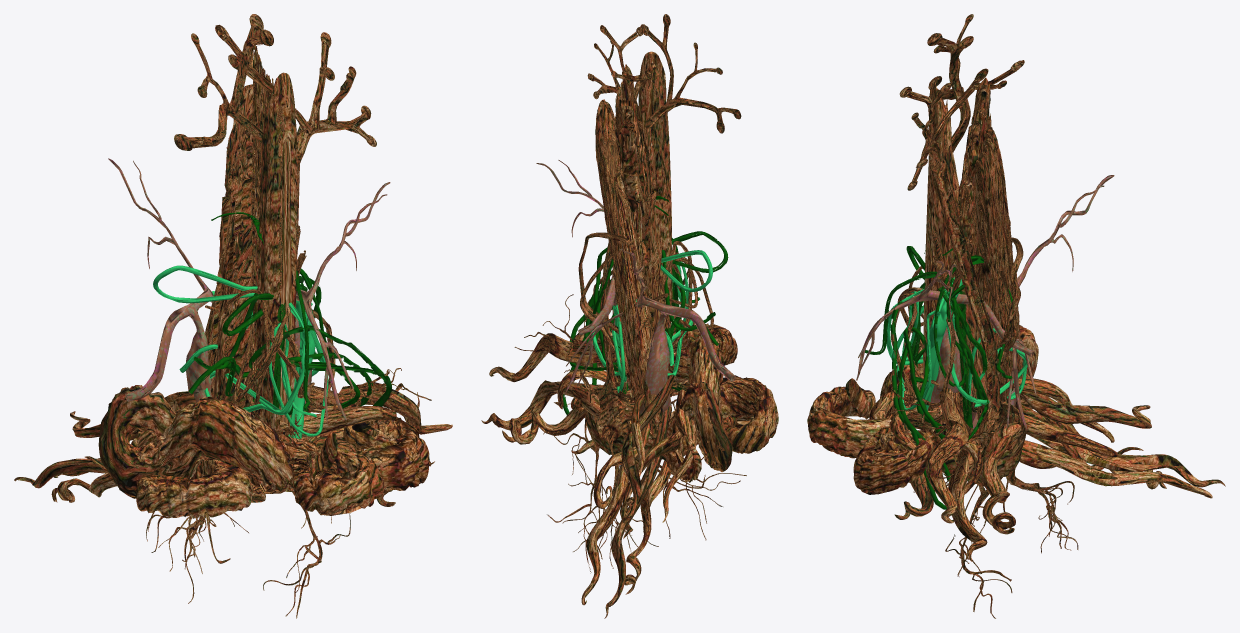
File: worldtreeone.glb
3 renders of one model, left to right at view 1: azimuth 30°, elevation 25°; view 2: azimuth 150°, elevation 25°; view 3: azimuth 270°, elevation 25°, orthographic. The views are drawn at different scales.
Visible parts, largest first — view 1: a_steak_raw_132.026; view 2: a_steak_raw_132.026; view 3: a_steak_raw_132.026.
Part boxes in pixels (x1=…): a_steak_raw_132.026: x1=14, y1=14, x2=452, y2=618; a_steak_raw_132.026: x1=481, y1=14, x2=778, y2=618; a_steak_raw_132.026: x1=807, y1=14, x2=1225, y2=618.
Size of the model in its own units: 1.35 by 2.55 by 1.72.
6 materials, 6 textured.
